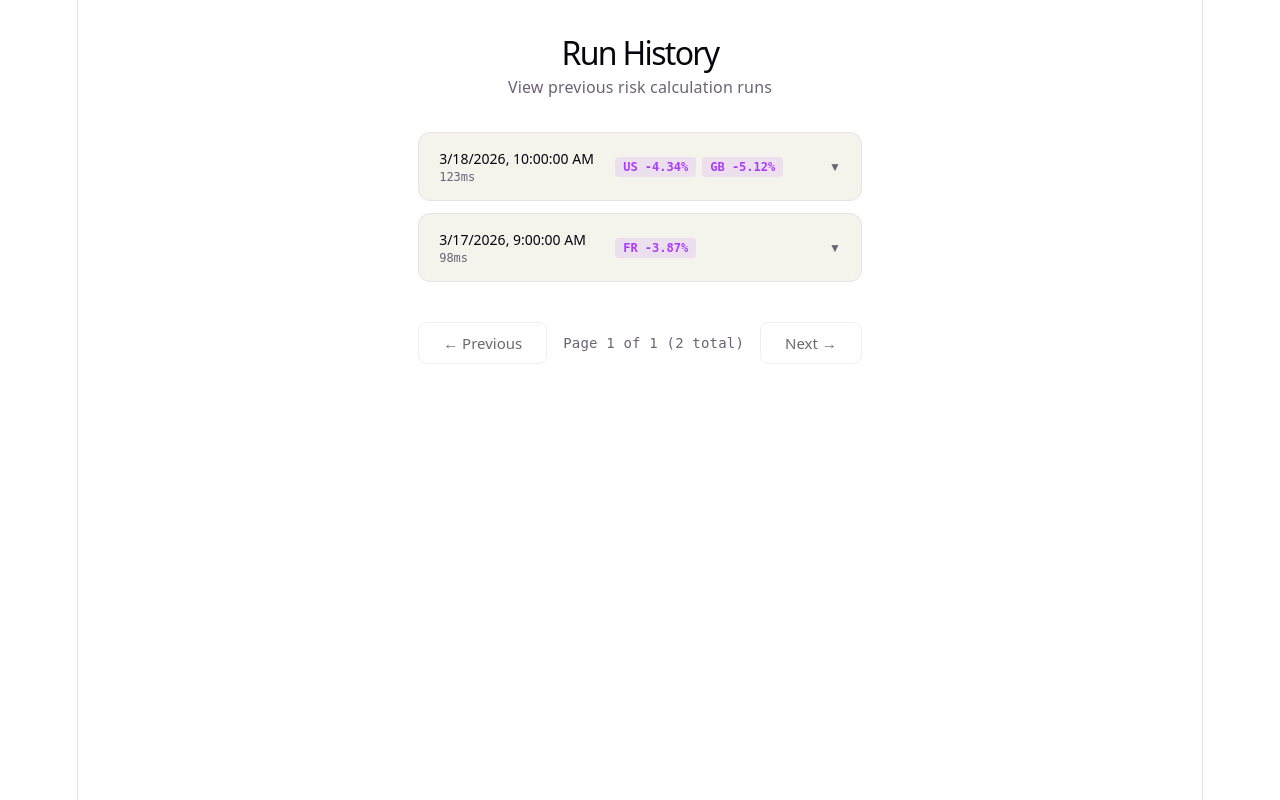
Scenario: RunHistoryPage › expands a run card to show portfolio results on click
expect the text "123ms" is shown: met, box [439,170,475,184]
expect the text "Portfolio A" is not shown: met
# Click the first run card header to expand
What coordinates should you click on to do the following:
click the button "3/18/2026, 10:00:00 AM 123ms US -4.34% GB -5.12% ▼"
I would click on:
 (640, 167)
Its box is [419,133,861,200].
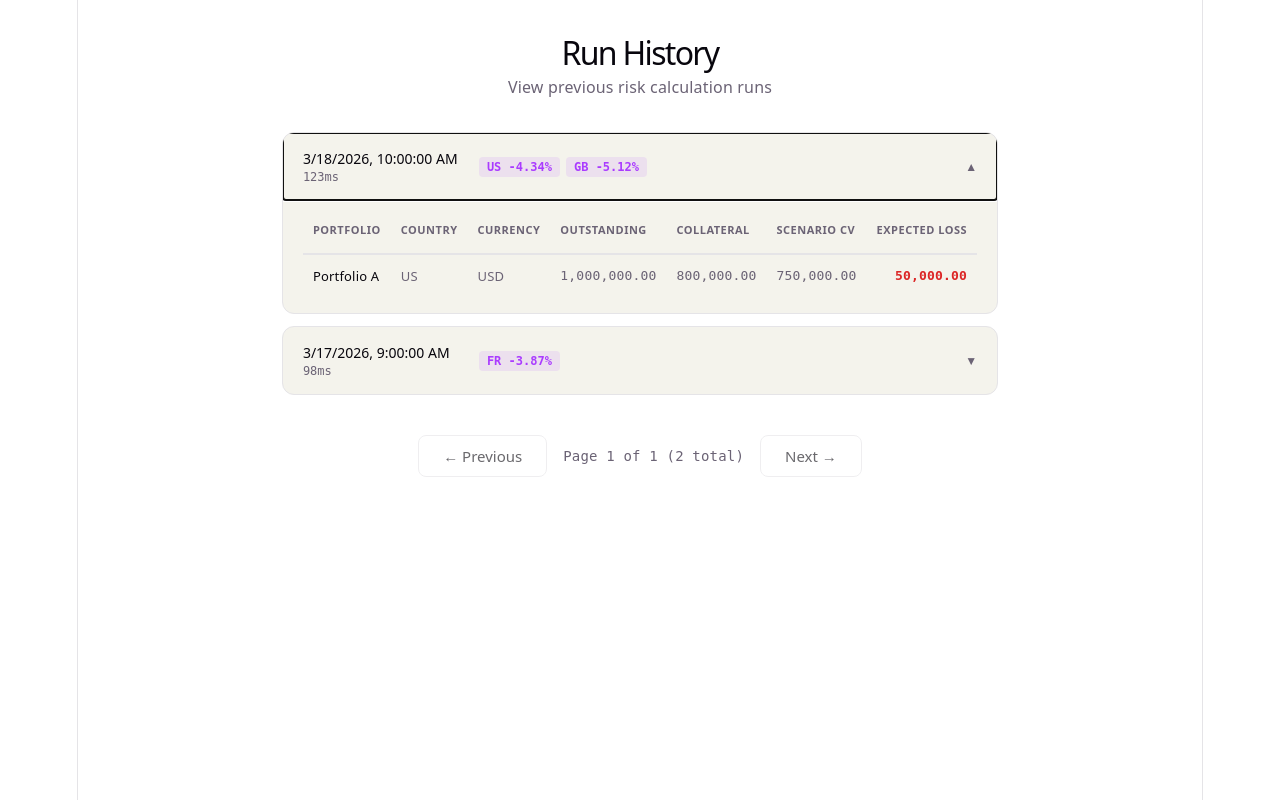
expect the text "Portfolio A" is shown: met, box [303,254,391,297]
expect the text "US" is shown: met, box [391,254,468,297]
expect the text "USD" is shown: met, box [468,254,550,297]
